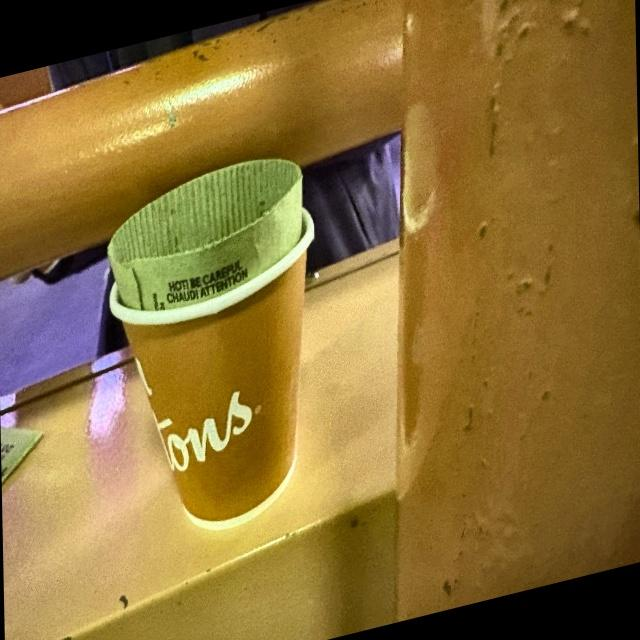Timmies: (106, 200, 322, 560)
